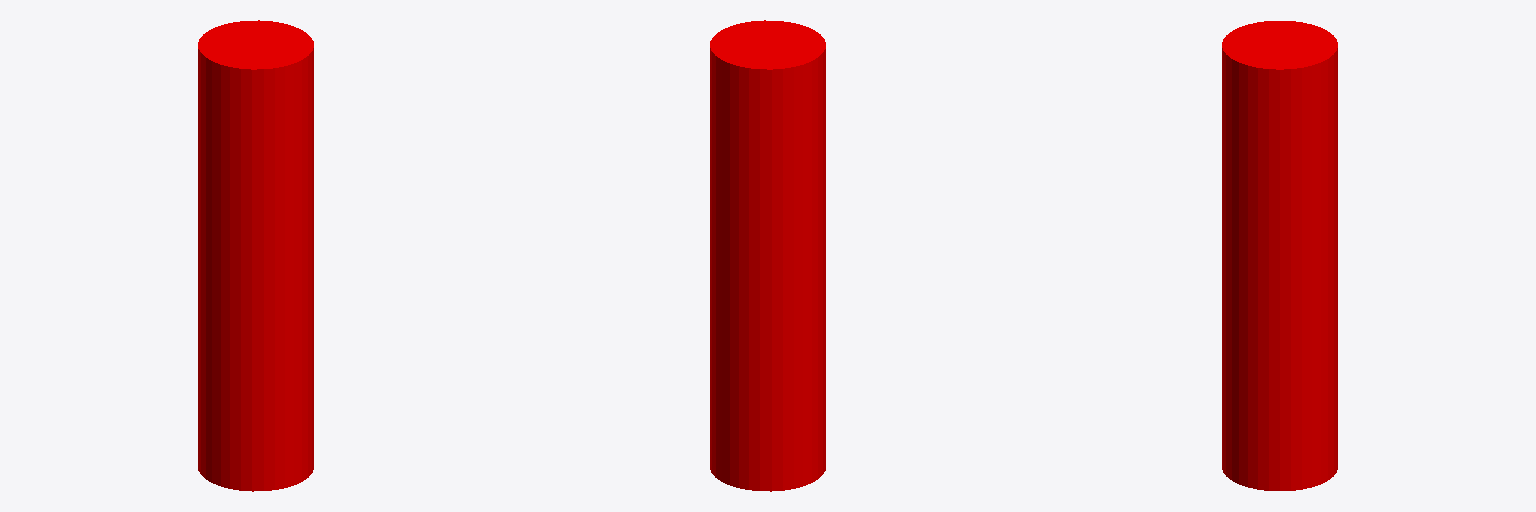
robot.urdf — cube:
<?xml version="1.0" ?>
<robot name="cube">
  <link name="baseLink">
    <contact>
      <lateral_friction value="1.0"/>
      <rolling_friction value="0.02"/>
      <contact_cfm value="0.0"/>
      <contact_erp value="1.0"/>

    </contact>
    <inertial>
      <origin rpy="0 0 0" xyz="0 0 0"/>
       <mass value="1"/>
       <inertia ixx="1" ixy="0" ixz="0" iyy="1" iyz="0" izz="2"/>
    </inertial>
    <visual>
      <origin rpy="0 0 0" xyz="0 0 0"/>
      <geometry>
        <cylinder radius="0.05" length="0.4"/>
      </geometry>
       <material name="red">
        <color rgba="1 0 0 1"/>
      </material>
    </visual>
    <collision>
      <origin rpy="0 0 0" xyz="0 0 0"/>
      <geometry>
	 	<cylinder radius="0.05" length="0.4"/>
      </geometry>
    </collision>
  </link>
</robot>

--- What the picture shows (computed from the rendered views, not written in the file) ---
The picture shows the robot from 3 angles, left to right: view 1: azimuth 30°, elevation 25°; view 2: azimuth 150°, elevation 25°; view 3: azimuth 270°, elevation 25°; orthographic projection.
Model cube with 1 links and 0 joints (none), rooted at baseLink, posed every joint at zero.
Visible links, largest first — view 1: baseLink; view 2: baseLink; view 3: baseLink.
Link boxes in pixels (x1,y1,x2,y2): baseLink: (198, 20, 313, 491); baseLink: (710, 20, 825, 491); baseLink: (1222, 21, 1337, 490).
Size in the robot's own frame: 0.1 by 0.1 by 0.4 metres.
Geometry: primitives only (box / cylinder / sphere), no mesh files.